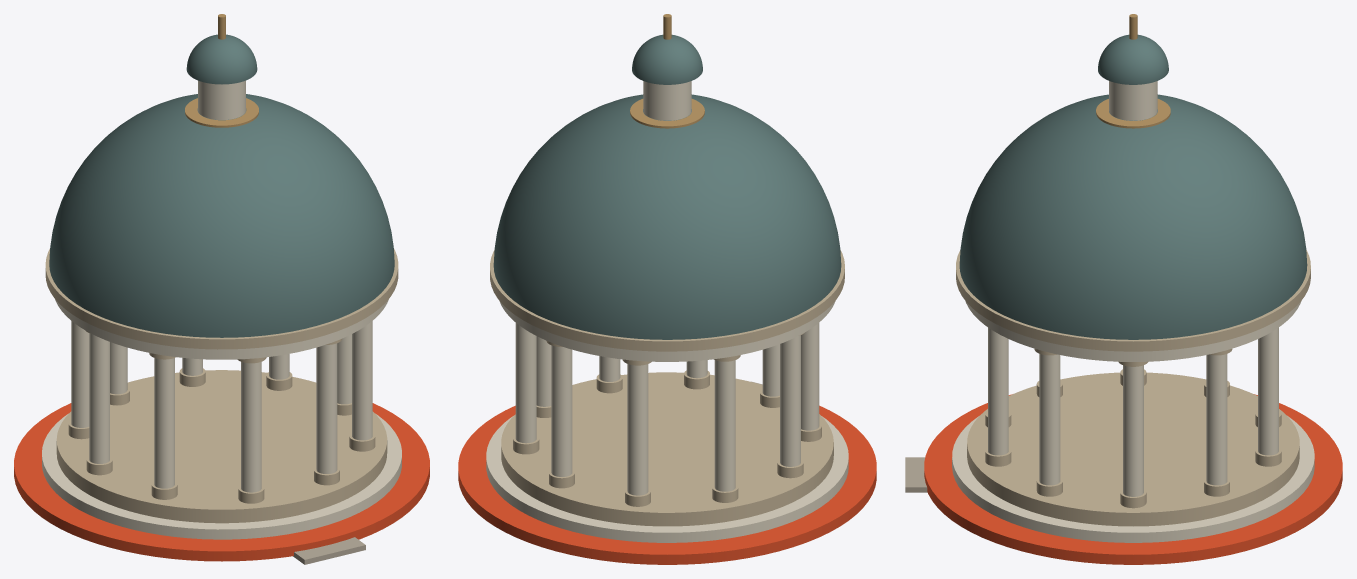
3 renders of one model, left to right at view 1: azimuth 30°, elevation 25°; view 2: azimuth 150°, elevation 25°; view 3: azimuth 270°, elevation 25°, orthographic.
Parts seen in each view (by area): view 1: Copper dome, Column terrace, Circular foundation with editable sketch, Lower plinth bevel ring, Circular dome footing, Circular classical entablature, Column 9 shaft, Lantern half dome, Column 7 shaft, Column 8 shaft, Column 6 shaft, Column 10 shaft (+6 smaller); view 2: Copper dome, Column terrace, Circular foundation with editable sketch, Lower plinth bevel ring, Circular dome footing, Circular classical entablature, Column 4 shaft, Column 5 shaft, Column 3 shaft, Lantern half dome, Column 6 shaft, Column 2 shaft (+6 smaller); view 3: Copper dome, Column terrace, Circular foundation with editable sketch, Lower plinth bevel ring, Circular dome footing, Circular classical entablature, Column 2 shaft, Column 10 shaft, Lantern half dome, Column 1 shaft, Column 3 shaft, Column 9 shaft (+3 smaller).
Part boxes in pixels (left/top/right/bottom): Copper dome: left=49, top=94, right=394, bottom=337; Column terrace: left=56, top=370, right=387, bottom=523; Circular foundation with editable sketch: left=14, top=403, right=429, bottom=561; Lower plinth bevel ring: left=42, top=413, right=401, bottom=539; Circular dome footing: left=45, top=249, right=398, bottom=349; Circular classical entablature: left=55, top=299, right=388, bottom=359; Column 9 shaft: left=316, top=343, right=337, bottom=473; Lantern half dome: left=186, top=34, right=257, bottom=84; Column 7 shaft: left=154, top=358, right=174, bottom=488; Column 8 shaft: left=241, top=362, right=261, bottom=492; Column 6 shaft: left=89, top=333, right=109, bottom=463; Column 10 shaft: left=352, top=321, right=372, bottom=440; Copper dome: left=493, top=94, right=841, bottom=339; Column terrace: left=501, top=372, right=833, bottom=526; Circular foundation with editable sketch: left=458, top=405, right=876, bottom=564; Lower plinth bevel ring: left=486, top=416, right=848, bottom=542; Circular dome footing: left=490, top=250, right=844, bottom=351; Circular classical entablature: left=499, top=301, right=835, bottom=361; Column 4 shaft: left=627, top=364, right=648, bottom=495; Column 5 shaft: left=714, top=360, right=735, bottom=491; Column 3 shaft: left=551, top=345, right=572, bottom=476; Lantern half dome: left=632, top=34, right=702, bottom=84; Column 6 shaft: left=780, top=335, right=800, bottom=466; Column 2 shaft: left=515, top=323, right=536, bottom=443; Copper dome: left=959, top=94, right=1307, bottom=339; Column terrace: left=967, top=372, right=1299, bottom=526; Circular foundation with editable sketch: left=924, top=394, right=1342, bottom=564; Lower plinth bevel ring: left=952, top=416, right=1314, bottom=542; Circular dome footing: left=956, top=250, right=1310, bottom=351; Circular classical entablature: left=965, top=301, right=1301, bottom=361; Column 2 shaft: left=1206, top=354, right=1227, bottom=485; Column 10 shaft: left=1039, top=354, right=1060, bottom=485; Lantern half dome: left=1098, top=34, right=1168, bottom=84; Column 1 shaft: left=1123, top=365, right=1143, bottom=496; Column 3 shaft: left=1258, top=327, right=1278, bottom=455; Column 9 shaft: left=988, top=327, right=1008, bottom=455.
Size of the model in its own units: 0.112 by 0.1363 by 0.117.
